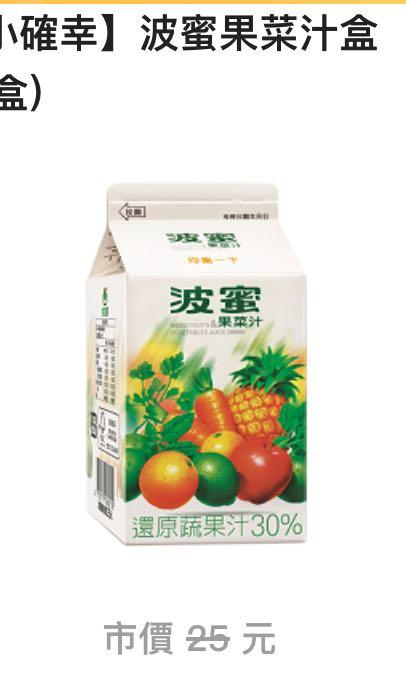vegetables juice: (87, 215, 322, 554)
